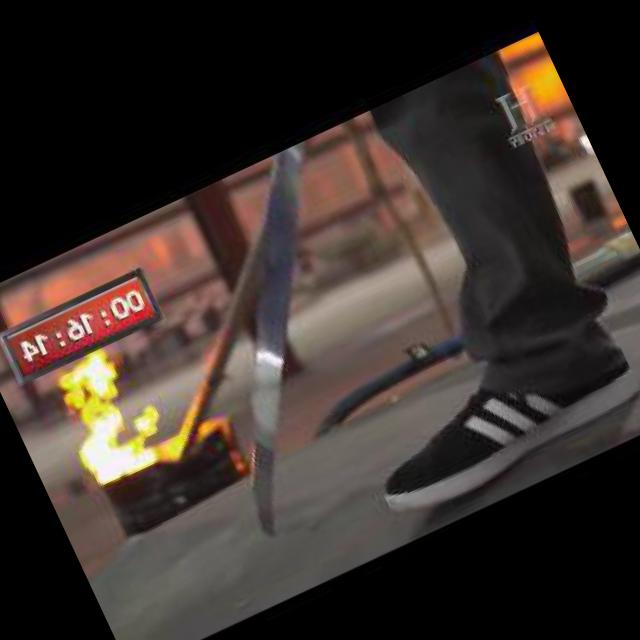fire: (44, 344, 170, 488), (512, 36, 570, 111)
